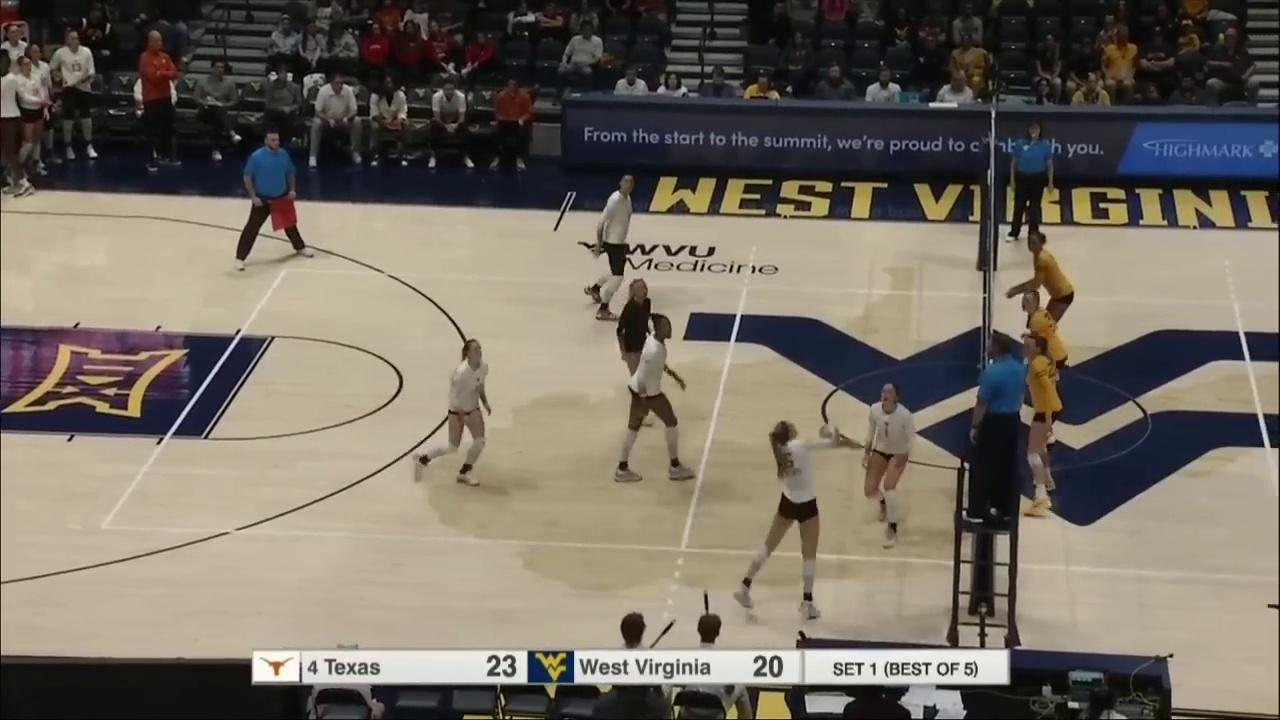player: (731, 421, 851, 619), (615, 311, 697, 481), (411, 340, 495, 489), (863, 382, 915, 549), (1011, 235, 1074, 372), (1013, 291, 1069, 441), (1018, 336, 1063, 515), (584, 176, 639, 318), (617, 279, 659, 431)
refree: (235, 131, 315, 269), (967, 338, 1025, 523), (1009, 121, 1054, 243)
